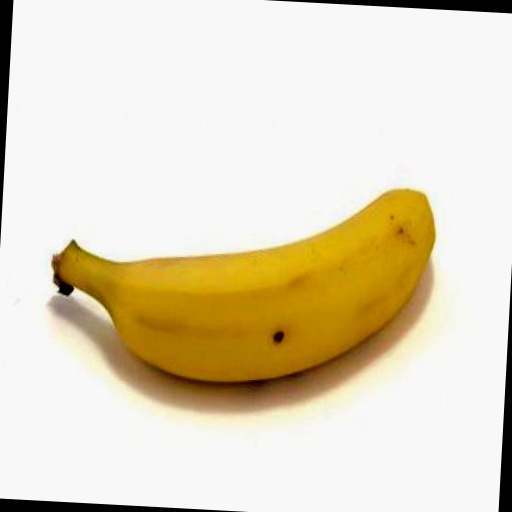fruit: (358, 134, 477, 432)
